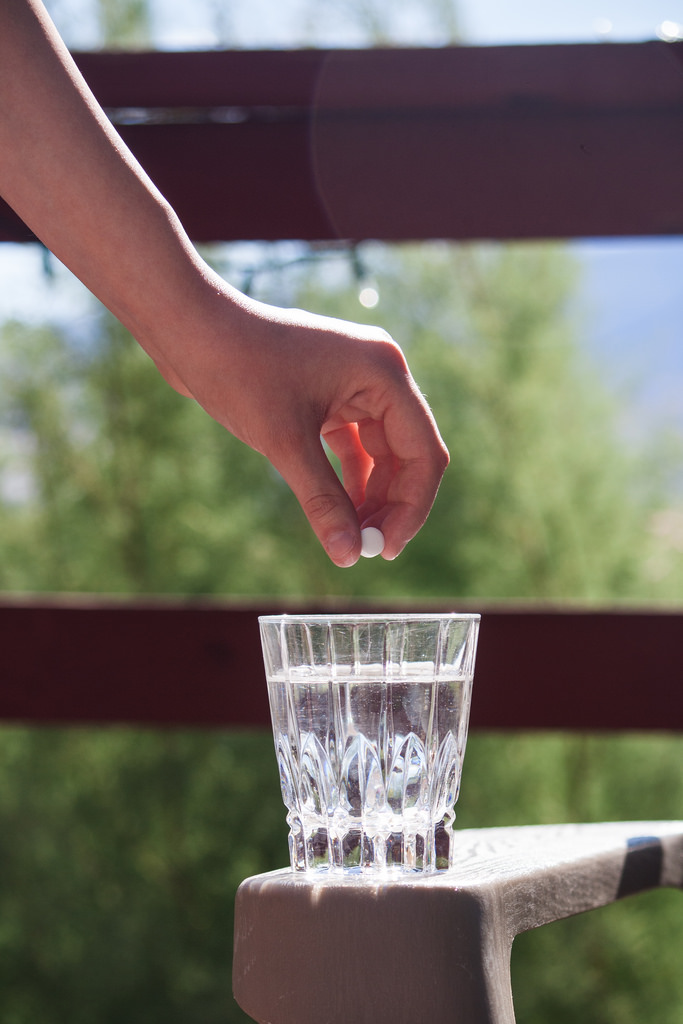glass of water: (256, 596, 503, 877)
